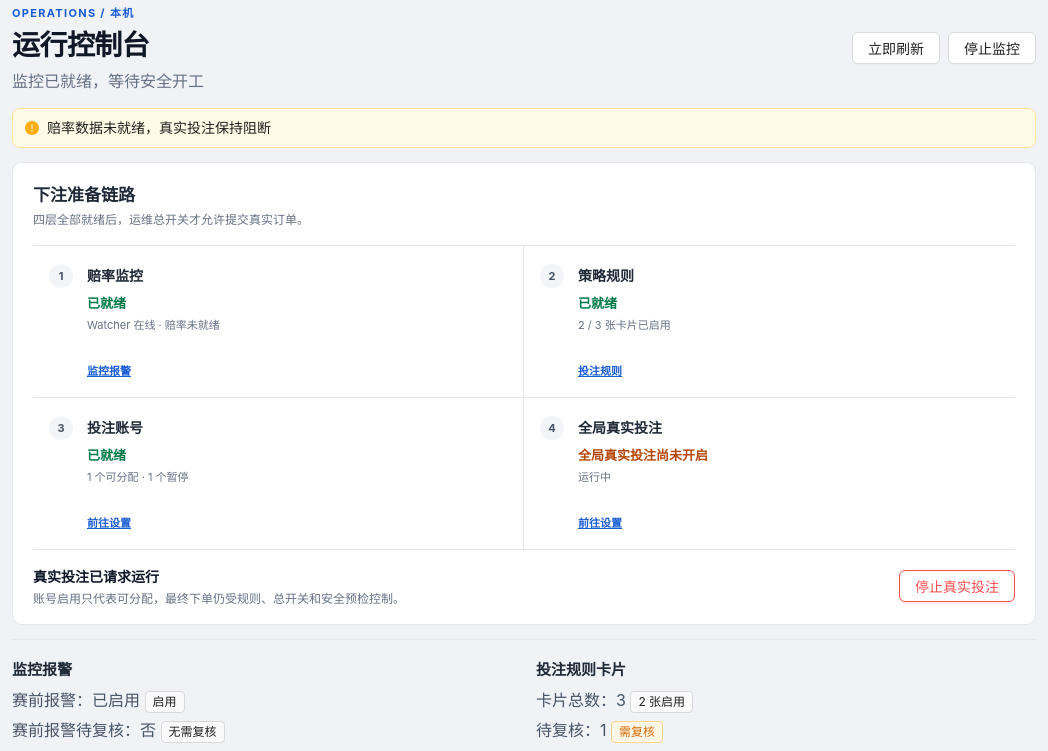
Test: OperationsConsole › stale or offline keeps the last values, disables start and leaves stop reachable
Expected: the button "停止真实投注" is enabled, [899, 570, 1015, 602]
Click the button "立即刷新": (896, 48) [852, 32, 940, 64]
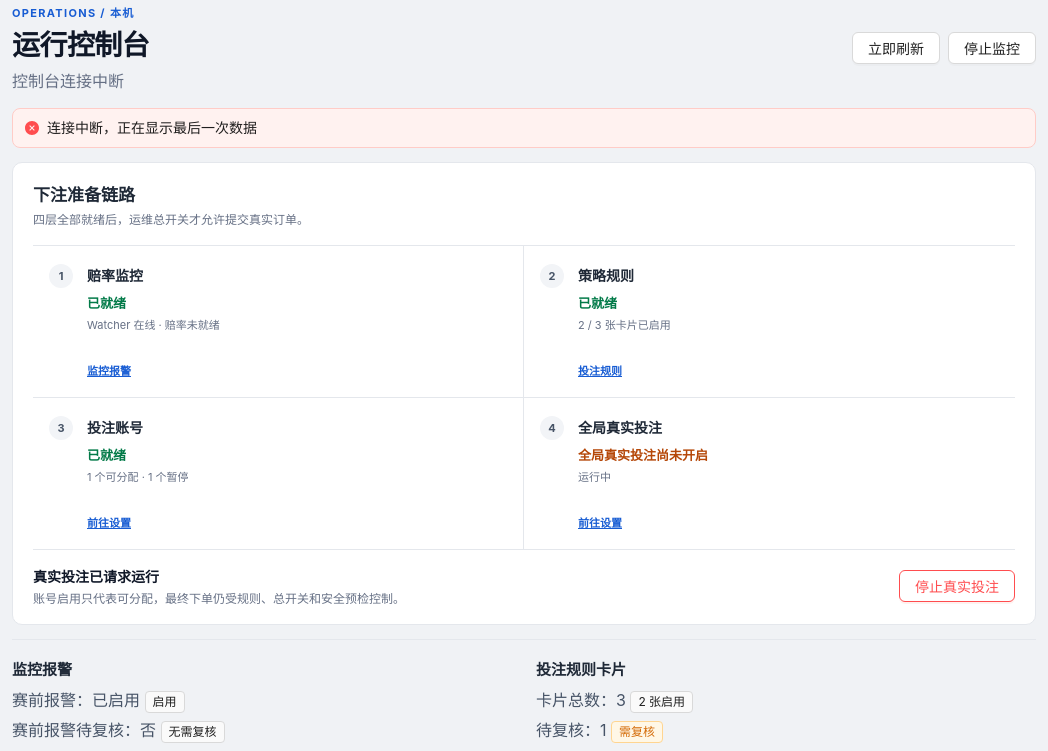
Expected: the button "停止真实投注" is enabled, [899, 570, 1015, 602]
Expected: the text "连接中断，正在显示最后一次数据" is shown, [47, 119, 257, 136]
